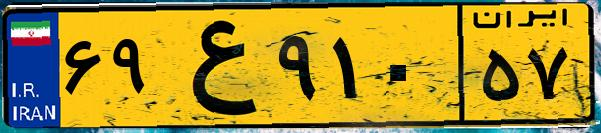0: (385, 28, 445, 110)
1: (330, 28, 385, 110)
5: (475, 38, 525, 113)
6: (57, 26, 110, 100)
7: (525, 38, 570, 115)
9: (270, 28, 330, 110), (110, 28, 158, 98)
ع: (158, 12, 270, 120)
